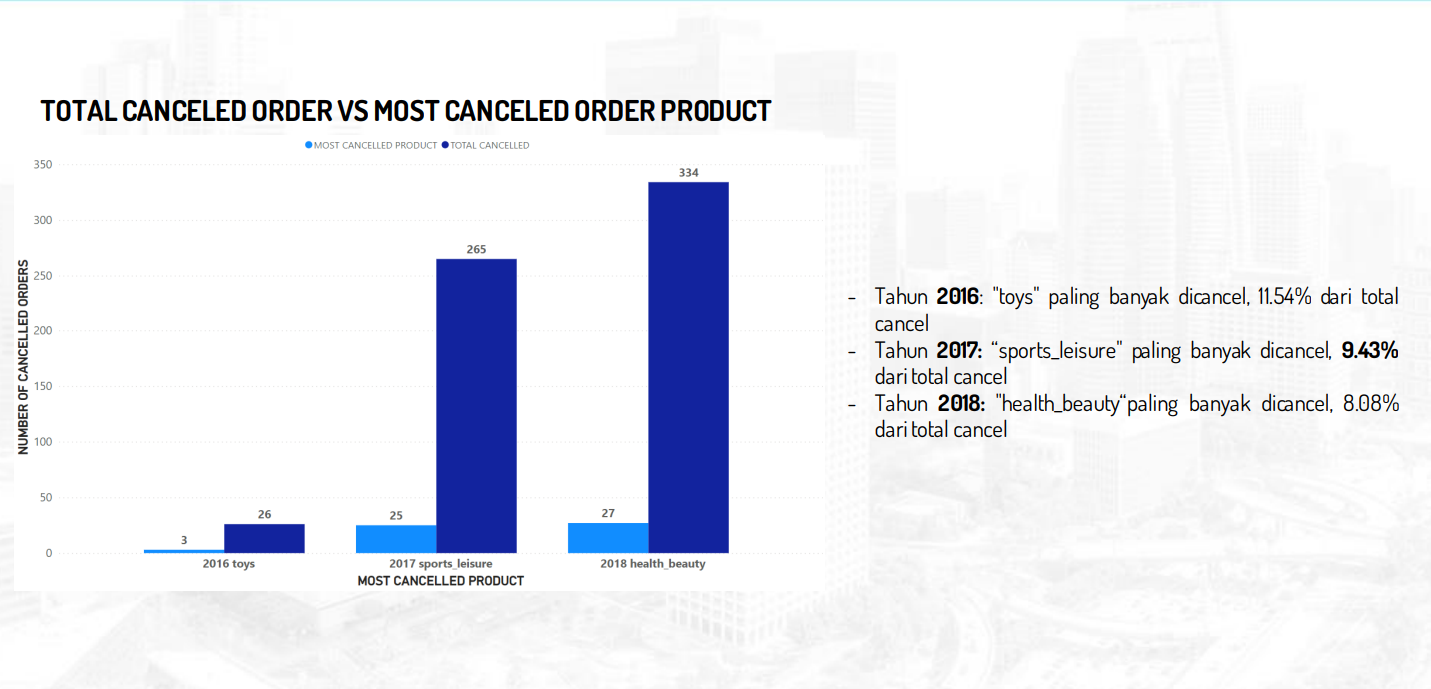

The page's visual inventory and layout, read from the dashboard file:
{"tool":"powerbi","page":{"name":"product_category_2","canvas":[1280,720],"ordinal":5},"visuals":[{"type":"clusteredColumnChart","title":"TOTAL CANCELLED VS MOST CANCELLED PRODUCT","fields":{"Category":["master_table_product_category_quality.year","master_table_product_category_quality.most_canceled_product"],"Y":["Sum(master_table_product_category_quality.top_canceled)","Sum(master_table_product_category_quality.total_canceled)"]},"box":[0,0,1279.8,719.6],"z":0}]}

Visuals, with their boxes on the page's 1280x720 design canvas (x1, y1, x2, y2). These are canvas units, not pixel positions in the 1431x689 screenshot, which may show the page scaled, cropped or inside an application window:
"TOTAL CANCELLED VS MOST CANCELLED PRODUCT" clusteredColumnChart: l=0, t=0, r=1280, b=720
